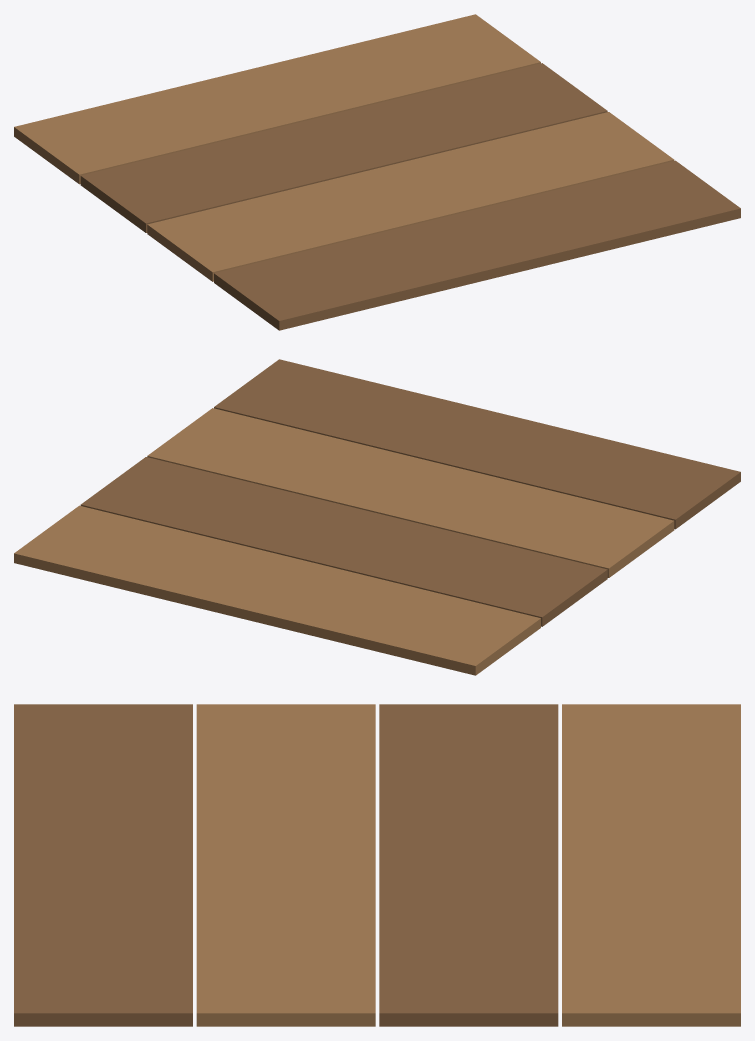
The model's file is deck_tile.obj.
The picture shows the model from 3 angles, top to bottom: view 1: azimuth 30°, elevation 25°; view 2: azimuth 150°, elevation 25°; view 3: azimuth 270°, elevation 25°; orthographic projection. The views are drawn at different scales.
Visible parts, largest first — view 1: deck_tile; view 2: deck_tile; view 3: deck_tile.
Boxes of the visible parts, <box> form: deck_tile: <box>14,14,740,330</box>; deck_tile: <box>14,359,740,675</box>; deck_tile: <box>14,704,740,1026</box>.
Size of the model in its own units: 1 by 0.02 by 0.995.
